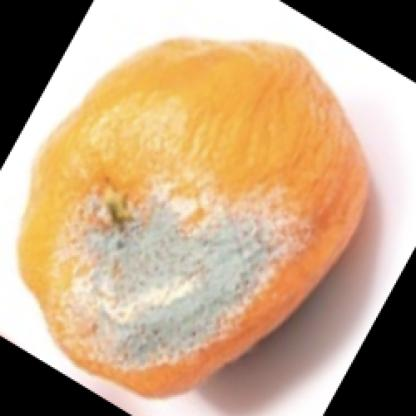rotten: (17, 36, 368, 399)
